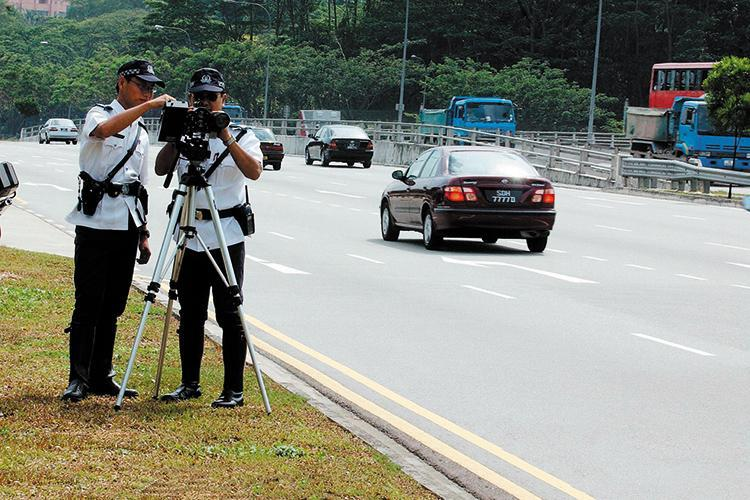Monitor: (169, 95, 221, 193)
